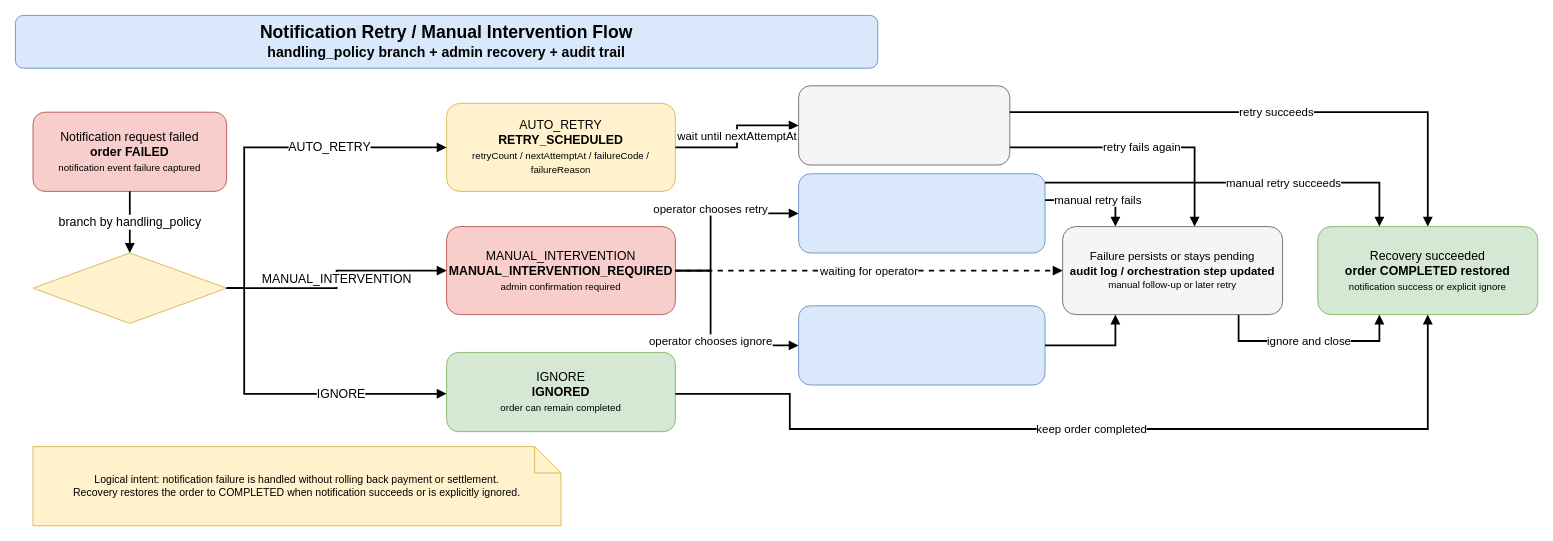
The diagram is 1553 pixels wide and 541 high, and some of its shapes have lost their labels. Each missing label, with the box of its shape:
Admin recovery API POST /api/admin/notification-events/{id}/ignore: (798, 305, 1045, 385)
Admin recovery API POST /api/admin/notification-events/{id}/retry: (798, 173, 1045, 253)
Check handling_policy AUTO_RETRY / MANUAL_INTERVENTION / IGNORE: (32, 252, 227, 323)
Retry worker / scheduler re-attempt when nextAttemptAt is reached: (798, 85, 1010, 165)
